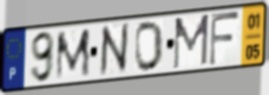9: (28, 30, 57, 85)
F: (208, 10, 242, 68)
M: (171, 12, 211, 72), (54, 27, 92, 83)
N: (99, 20, 130, 79)
O: (133, 20, 164, 74)
